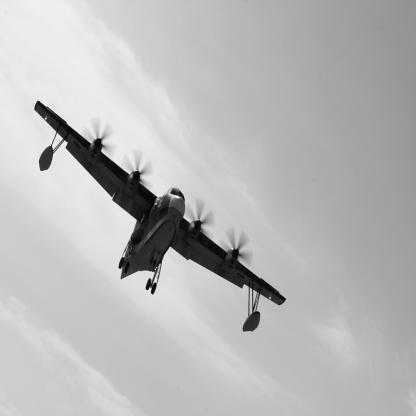US2: (35, 101, 287, 333)
